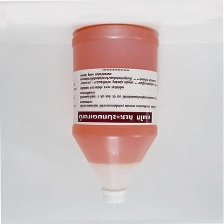cleaning_solution: (70, 21, 160, 206)
